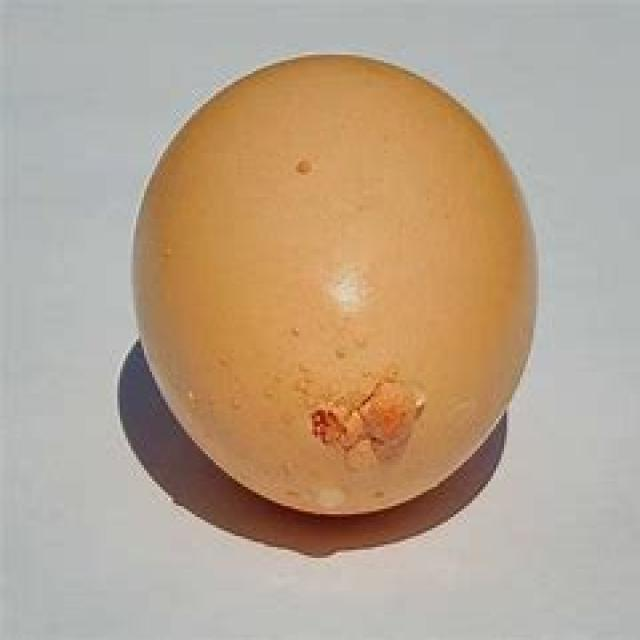Blood Stained Egg: (133, 17, 554, 569)
